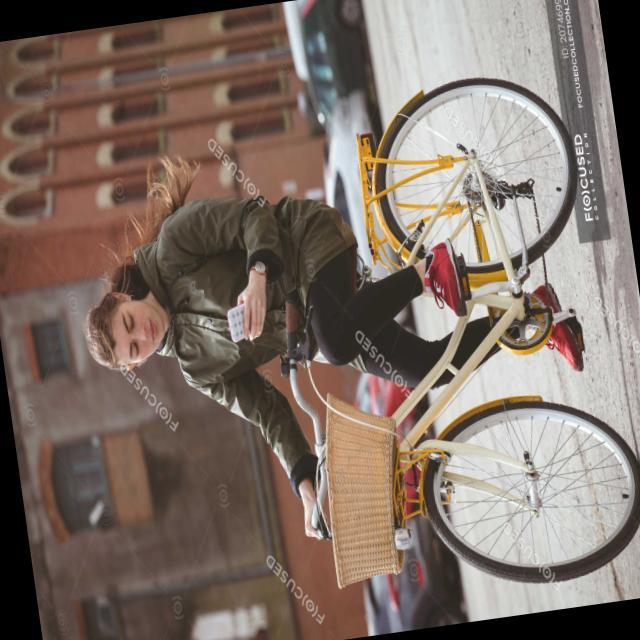USING_MOBILE: (68, 195, 284, 375)
